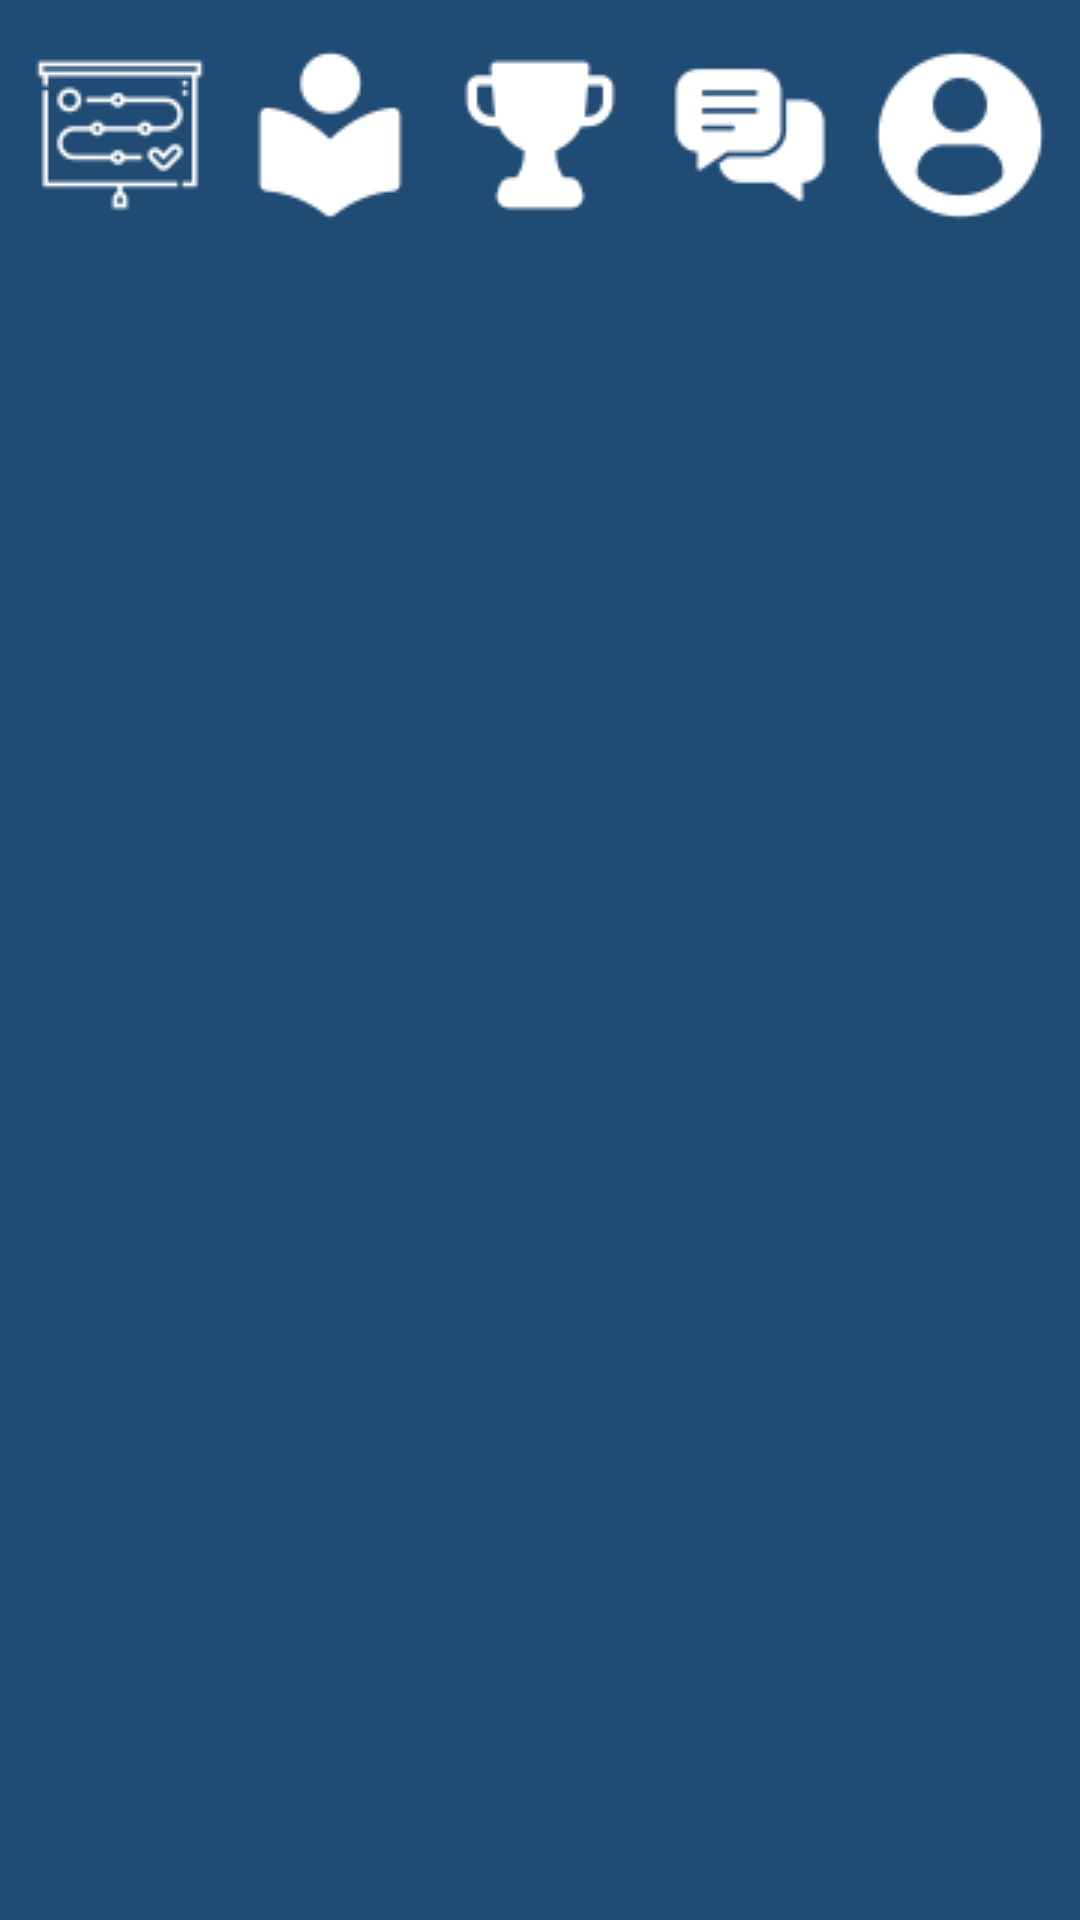

Screen size 1080 × 1920. Icon name, then its center in pixels as (x=x, y=y):
Articles: (x=330, y=134)
Forums: (x=750, y=135)
Leaderboard: (x=540, y=135)
Profile User: (x=960, y=135)
Roadmap: (x=120, y=135)
